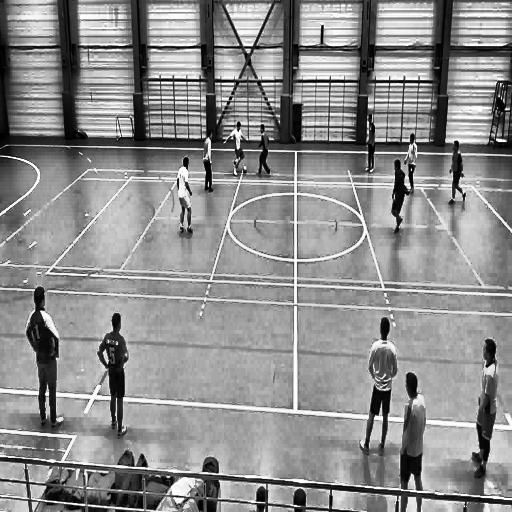ball: (242, 164, 249, 176)
player: (25, 285, 66, 433), (358, 314, 398, 457), (470, 337, 499, 487), (98, 312, 130, 444), (399, 371, 426, 512), (388, 158, 408, 236), (176, 156, 195, 236), (223, 120, 248, 178), (449, 138, 468, 208), (254, 124, 273, 180), (404, 132, 418, 196), (364, 110, 377, 176), (203, 130, 215, 196)
